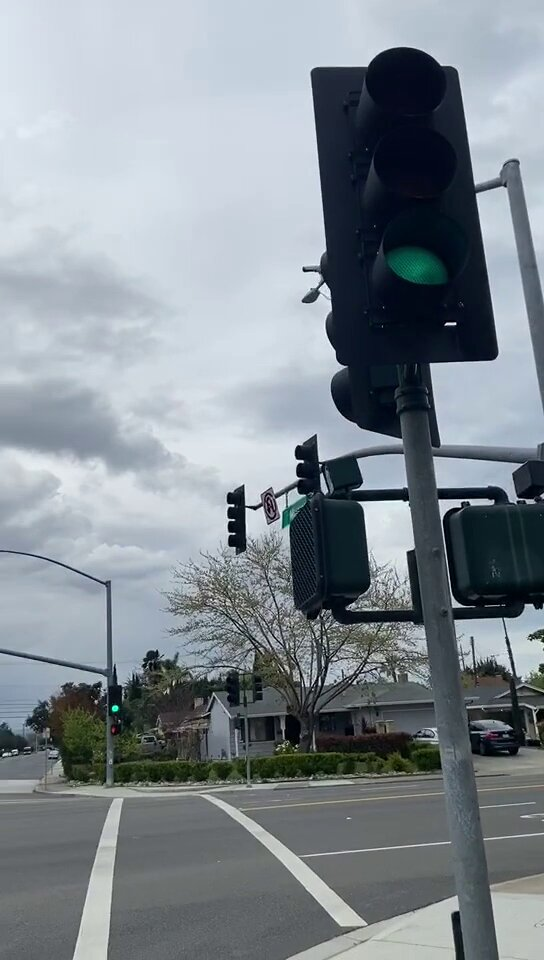green_light: (340, 73, 461, 329), (110, 685, 121, 714)
